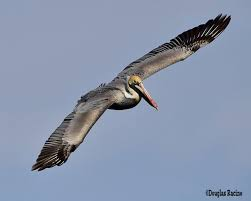pelican: (33, 13, 230, 173)
